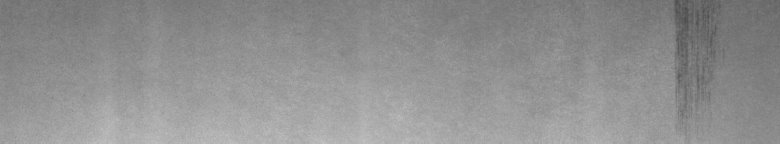ka: (670, 4, 717, 116)
